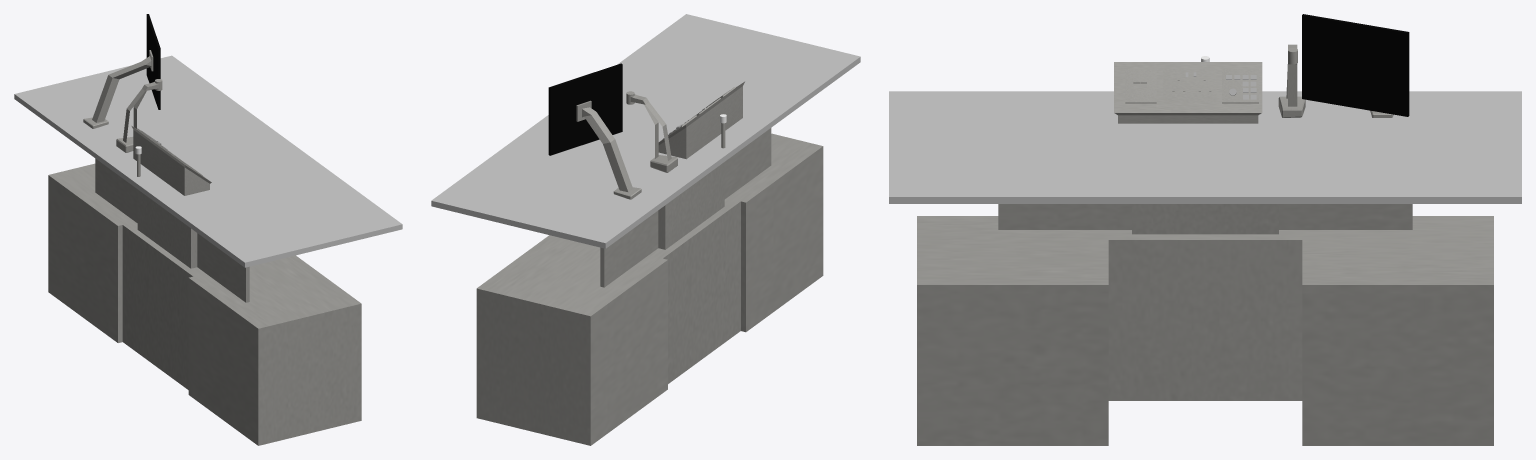
File: platform.fbx
The picture shows the model from 3 angles, left to right: view 1: azimuth 30°, elevation 25°; view 2: azimuth 150°, elevation 25°; view 3: azimuth 270°, elevation 25°; orthographic projection. The views are drawn at different scales.
Visible parts, largest first — view 1: pedestal, platform_top, pedestal1, center_console_pdeestal, monitor_arm, monitor, projctor_arm; view 2: pedestal, platform_top, pedestal1, monitor, center_console_pdeestal, monitor_arm, projctor_arm; view 3: pedestal, platform_top, pedestal1, monitor, center_console_pdeestal, socket, network_interface, controller.
Boxes of the visible parts, x1,y1,x2,y2 form: pedestal: (48, 163, 361, 445); platform_top: (14, 55, 402, 267); pedestal1: (95, 158, 249, 302); center_console_pdeestal: (131, 126, 211, 195); monitor_arm: (92, 50, 153, 122); monitor: (146, 14, 160, 109); projctor_arm: (123, 81, 159, 142); pedestal: (476, 133, 823, 445); platform_top: (431, 14, 860, 248); pedestal1: (600, 128, 771, 287); monitor: (548, 63, 622, 155); center_console_pdeestal: (658, 81, 744, 159); monitor_arm: (576, 100, 632, 192); projctor_arm: (630, 94, 671, 160); pedestal: (917, 216, 1493, 445); platform_top: (889, 91, 1521, 203); pedestal1: (998, 204, 1412, 234); monitor: (1302, 14, 1409, 116); center_console_pdeestal: (1114, 62, 1262, 123); socket: (1163, 69, 1216, 102); network_interface: (1125, 69, 1156, 103); controller: (1222, 69, 1258, 103).
Size of the model in its own units: 4.82 by 8.29 by 12.19.
